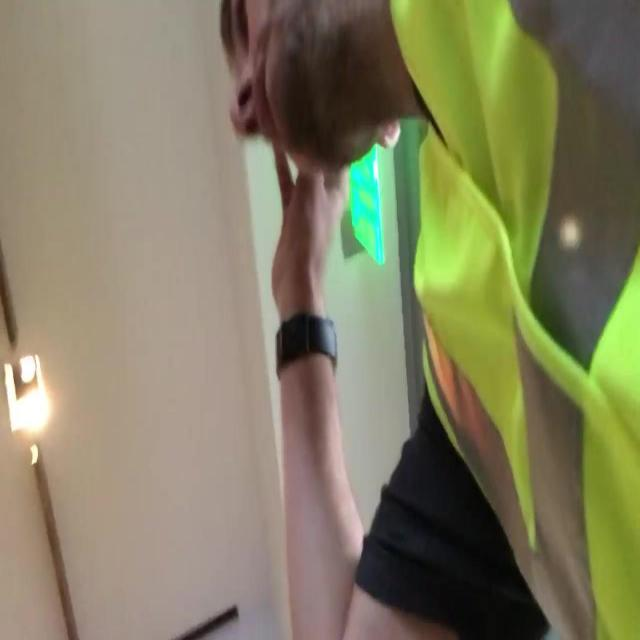Reflective-Jacket: (401, 24, 640, 632)
